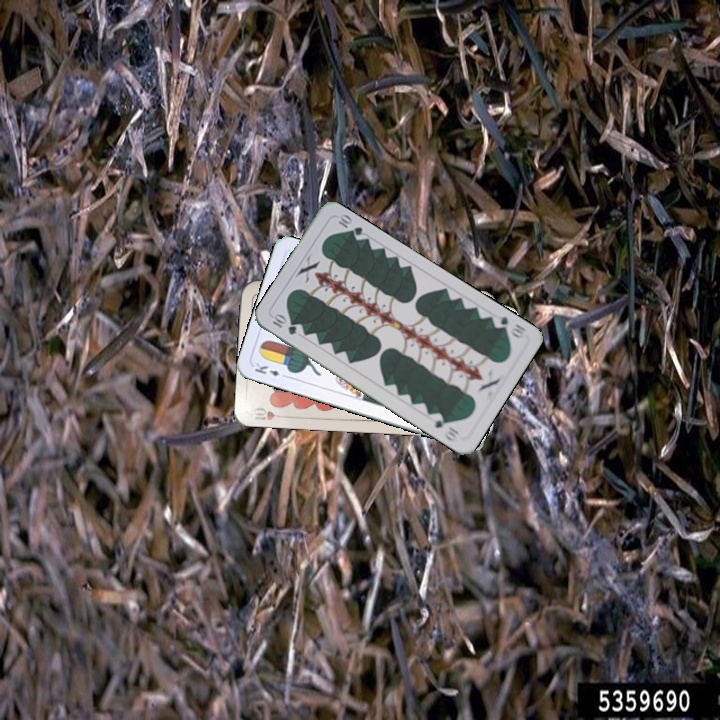EK: (250, 359, 290, 380)
G10: (488, 311, 529, 341), (268, 310, 299, 338)
H10: (249, 403, 289, 423)
